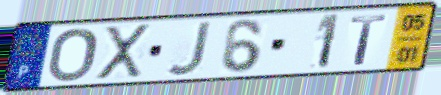1: (314, 12, 342, 72)
6: (219, 17, 267, 76)
J: (165, 19, 215, 78)
O: (46, 26, 101, 84)
T: (348, 13, 390, 67)
X: (95, 22, 153, 82)
